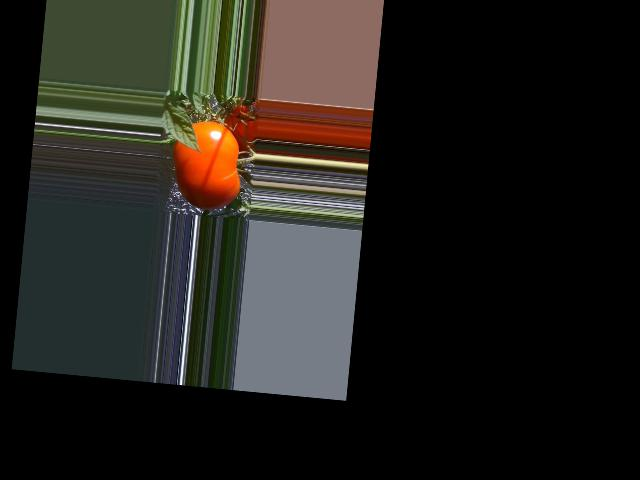tomato: (168, 118, 245, 212)
